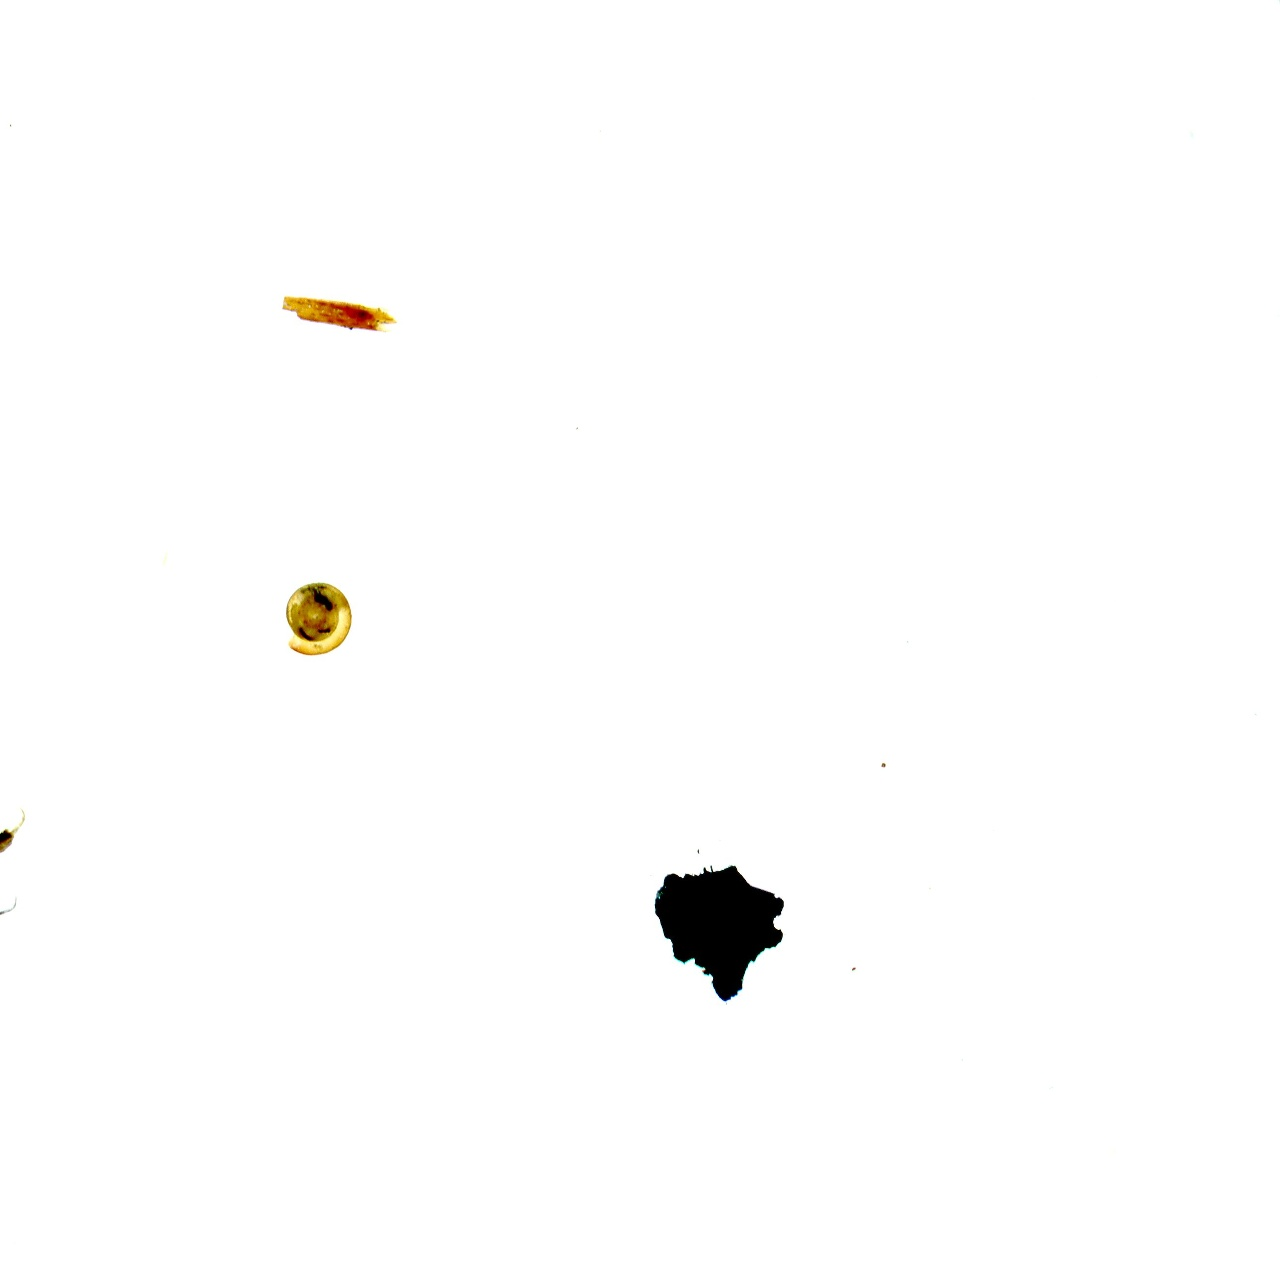arthropod: (280, 573, 357, 662), (0, 799, 28, 894), (0, 893, 23, 938)
